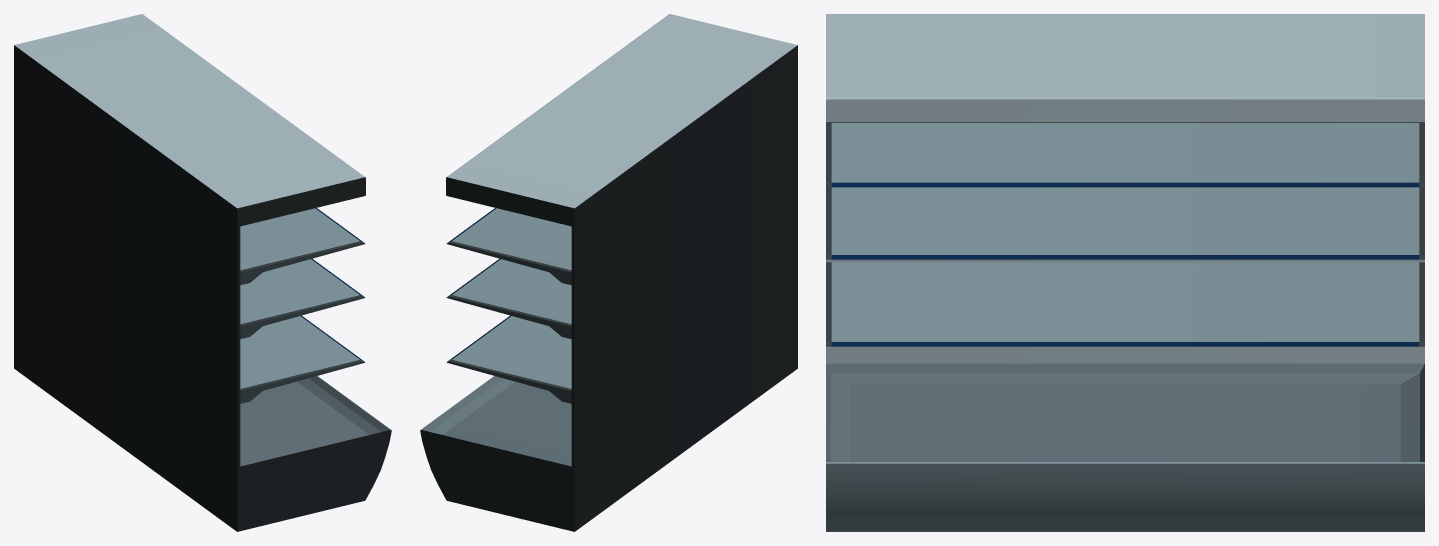
File: Freezer_Open_3row_col.glb
3 views of the same model, side by side, from view 1: azimuth 30°, elevation 25°; view 2: azimuth 150°, elevation 25°; view 3: azimuth 270°, elevation 25° (orthographic). The views are drawn at different scales.
Parts seen in each view (by area): view 1: Freezer_Open_3row_col; view 2: Freezer_Open_3row_col; view 3: Freezer_Open_3row_col.
Boxes of the visible parts, box(x1,y1,x2,y2) form: Freezer_Open_3row_col: box(14, 14, 391, 531); Freezer_Open_3row_col: box(420, 14, 797, 531); Freezer_Open_3row_col: box(826, 14, 1424, 531).
Bounding box in the file's own units: 1.2 × 2.4 × 3.
Materials: 2 (2 with a texture image).
